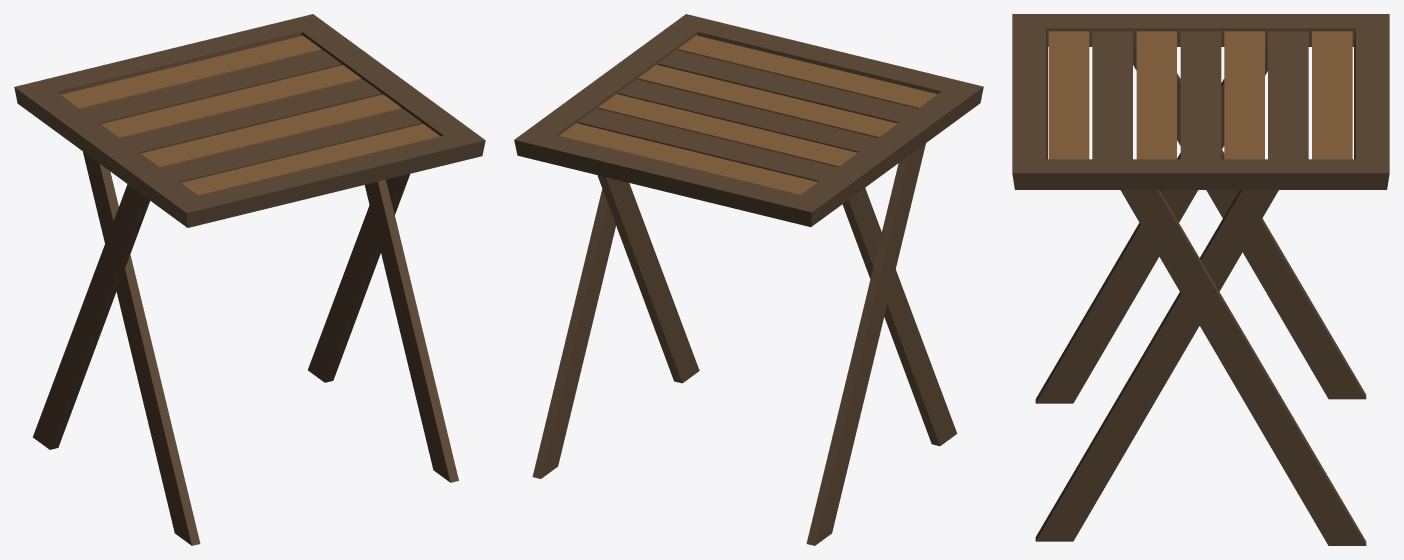
File: table_1.fbx
3 renders of one model, left to right at view 1: azimuth 30°, elevation 25°; view 2: azimuth 150°, elevation 25°; view 3: azimuth 270°, elevation 25°, orthographic. The views are drawn at different scales.
Visible parts, largest first — view 1: table_1; view 2: table_1; view 3: table_1.
Boxes of the visible parts, left/top/right/bottom form: table_1: left=14, top=14, right=485, bottom=545; table_1: left=514, top=14, right=983, bottom=545; table_1: left=1012, top=14, right=1389, bottom=545.
Size of the model in its own units: 71.73 by 79.01 by 71.73.
